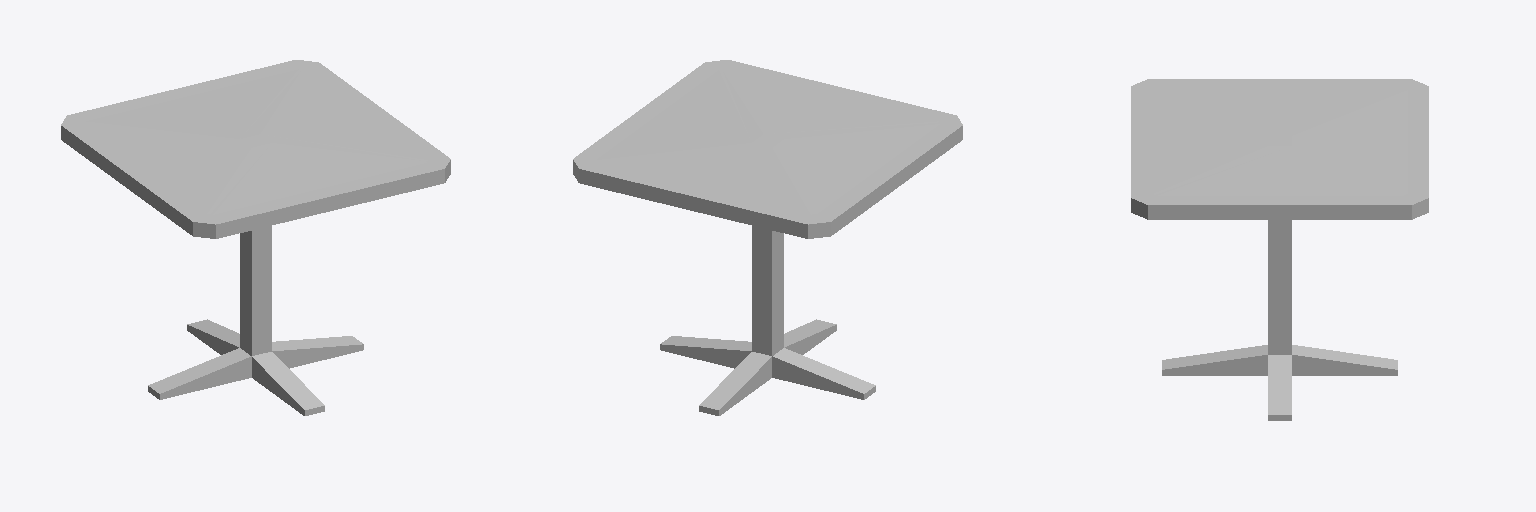
File: mesa.obj
3 renders of one model, left to right at view 1: azimuth 30°, elevation 25°; view 2: azimuth 150°, elevation 25°; view 3: azimuth 270°, elevation 25°, orthographic.
Bounding box in the file's own units: 3.53 × 3 × 3.53.